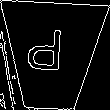P_S: (32, 29, 72, 82)
